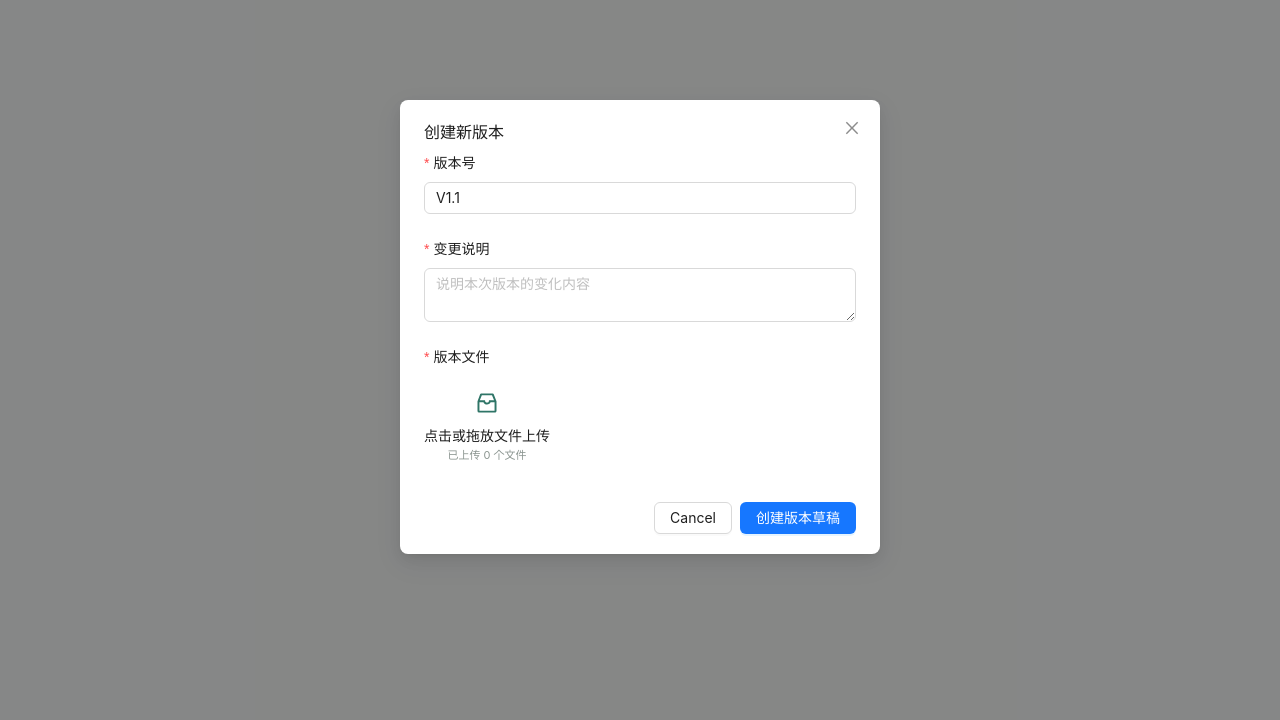
Test: NewDocumentVersionModal › prefills the next version number and requires change summary and files
Expected: the field labelled "版本号" holds "V1.1", [424,182,856,214]
Click the button "创建版本草稿" at (798, 518), box [740,502,856,534]
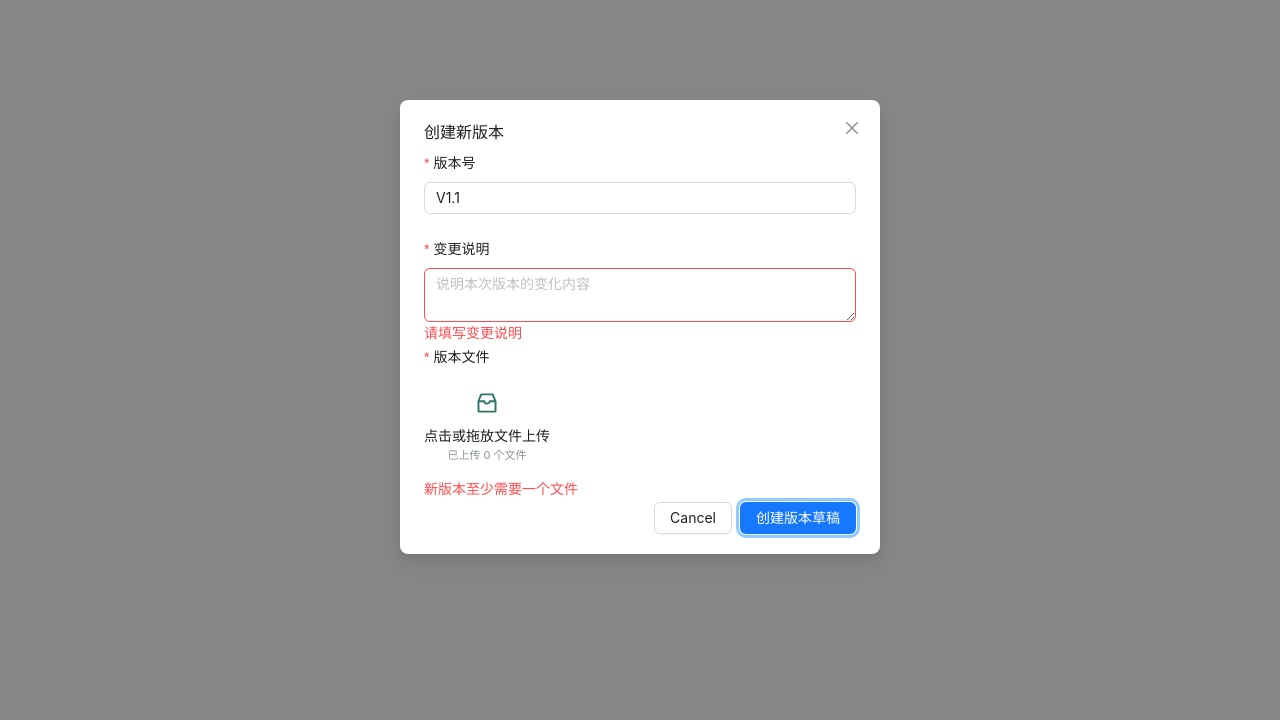
Expected: the text "请填写变更说明" is shown, [424,324,522,341]
